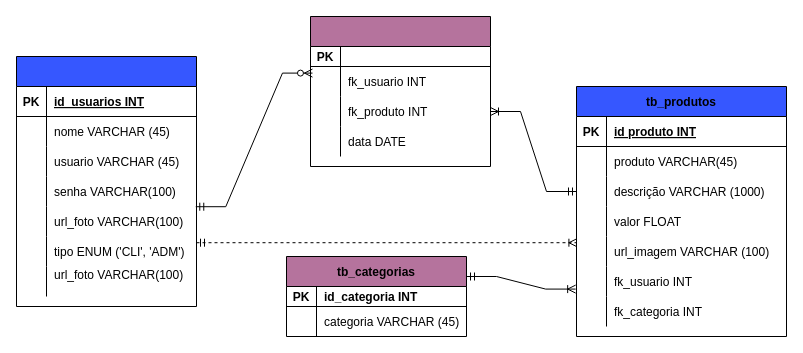
Image size: 803x353. Some labels were removed from this diagram. Each missing label, with the box of its shape:
Compras: (310, 16, 490, 166)
tb_usuarios: (16, 56, 196, 306)
